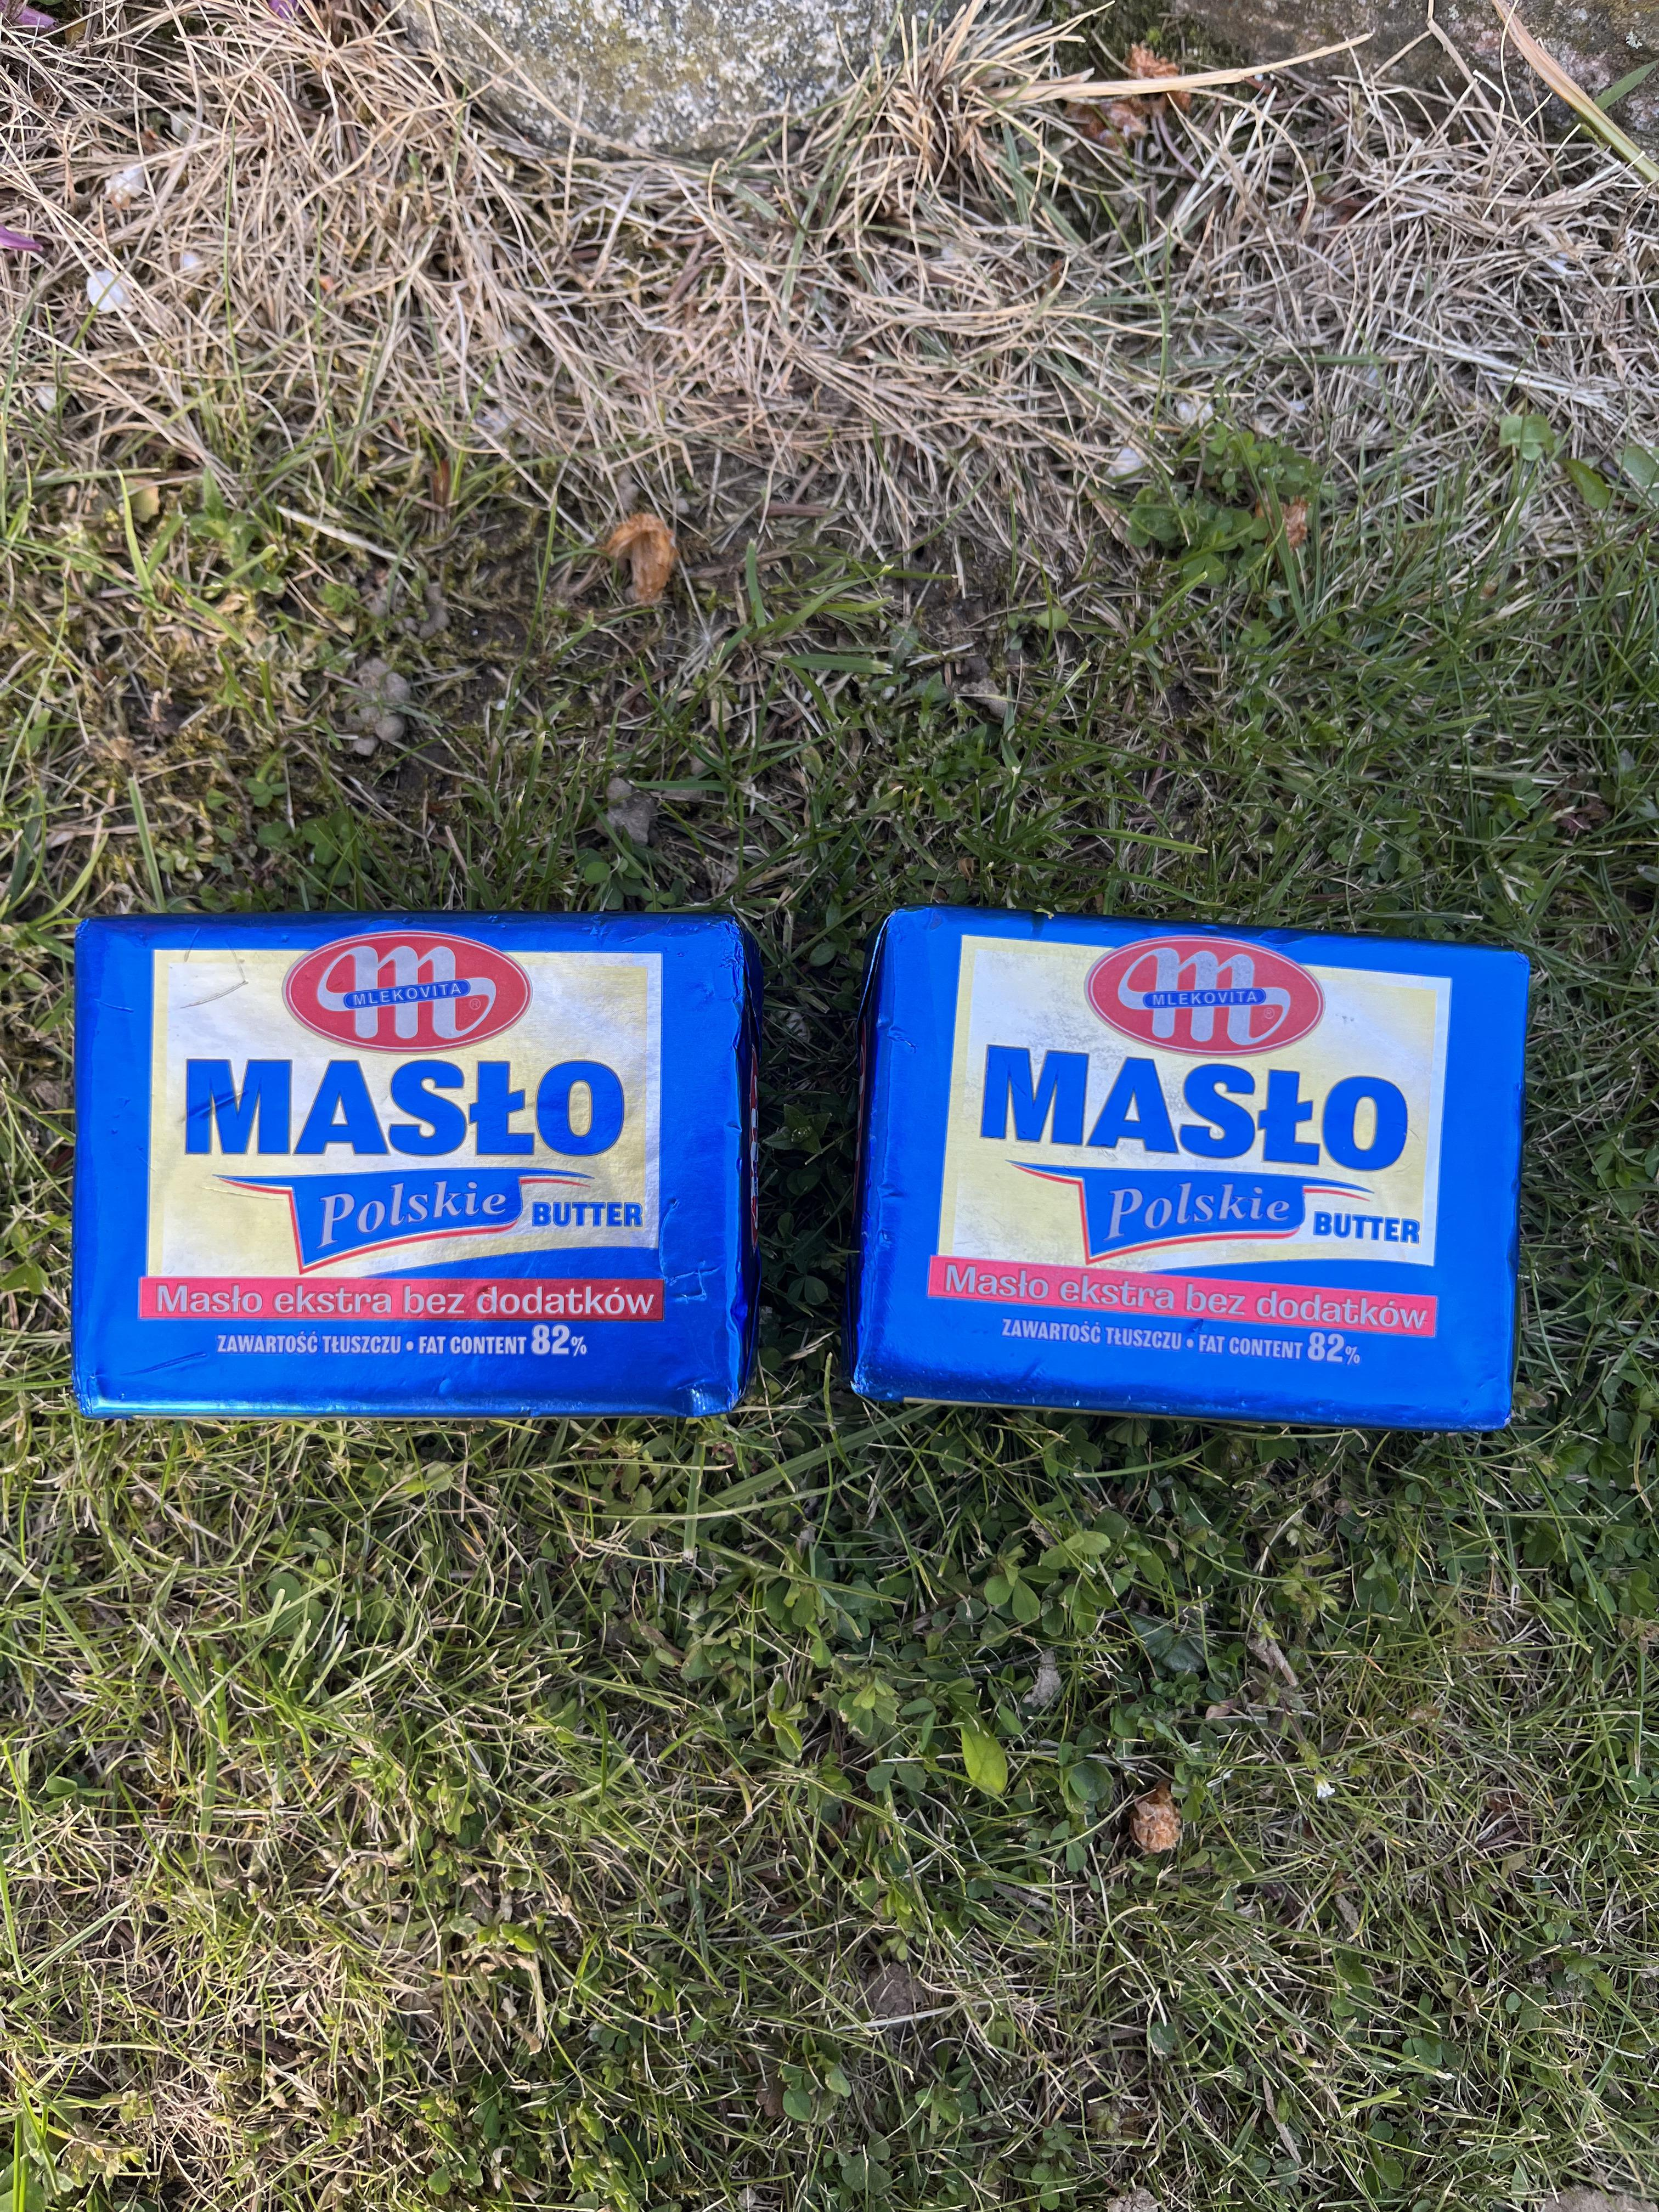Butter: (878, 913, 1525, 1440), (63, 914, 748, 1409)
